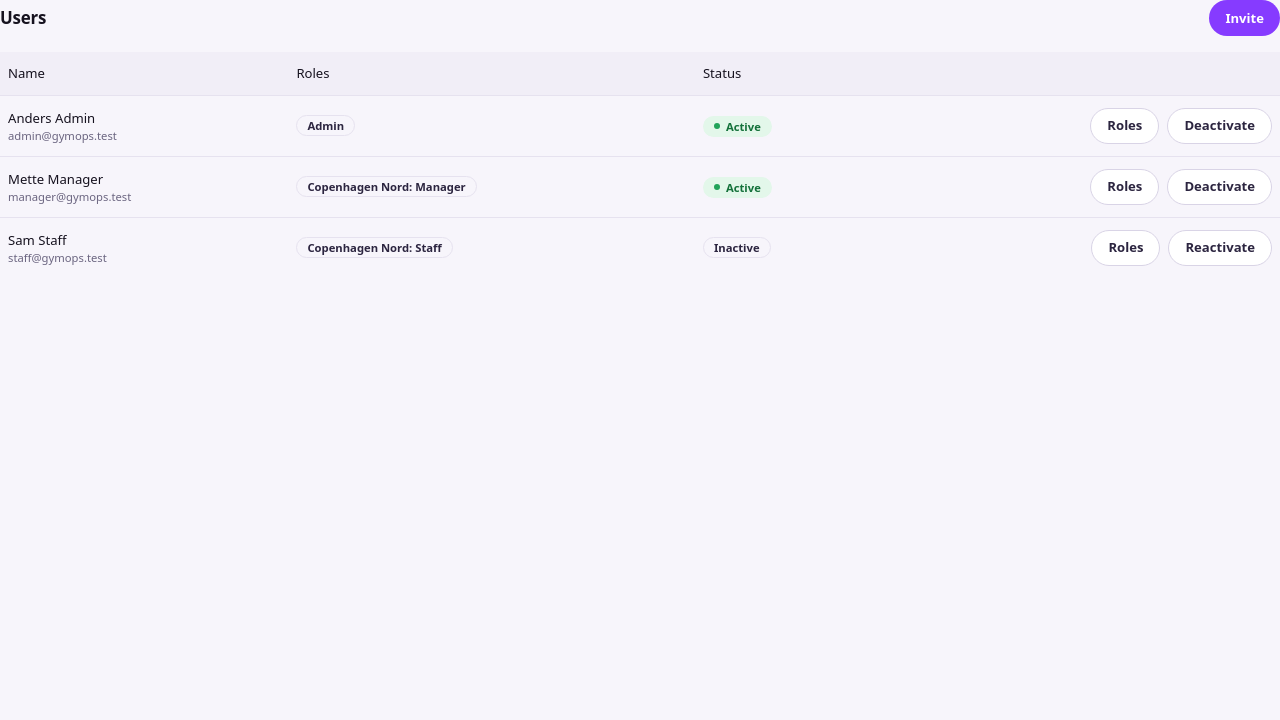
it: RolesDialog › offers the admin flag to a superadmin only
The image size is (1280, 720).
Click the button "Roles" in the row of "Mette Manager".
click(1125, 187)  # box top-left (1090, 169), bottom-right (1159, 205)
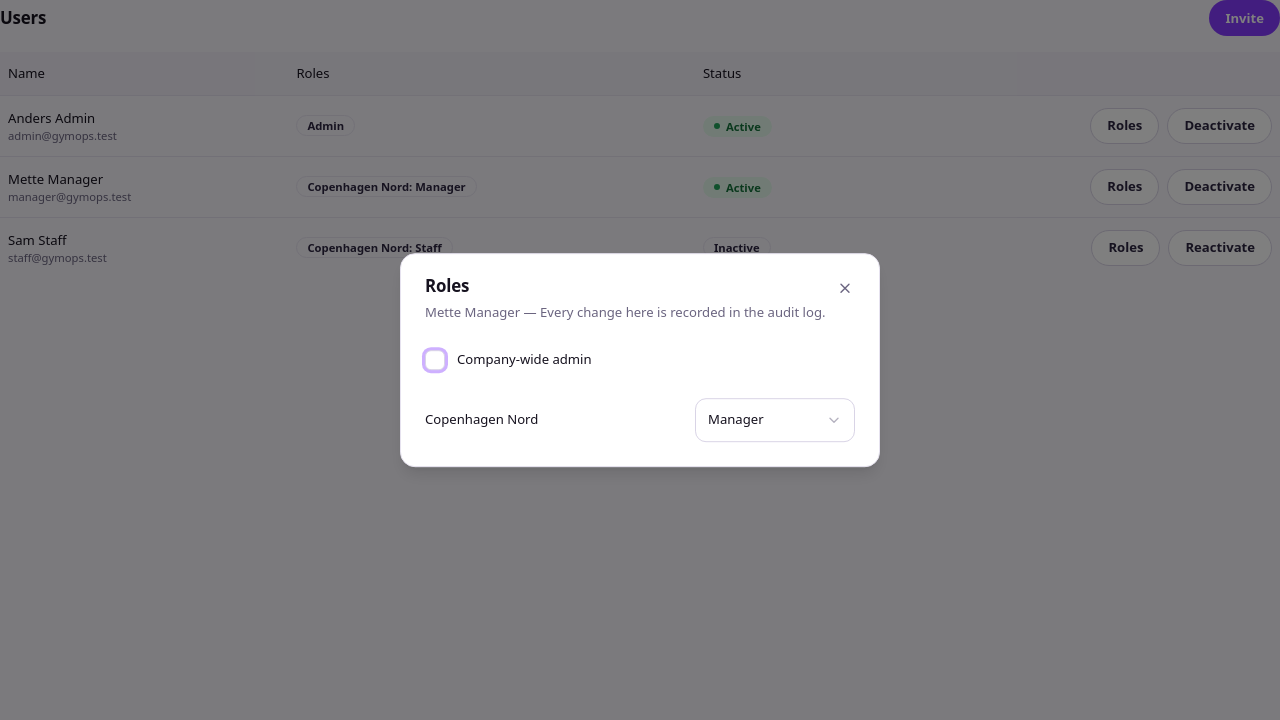
Expected: the checkbox named "Company-wide admin" is not checked, top-left (425, 350), bottom-right (445, 370)
